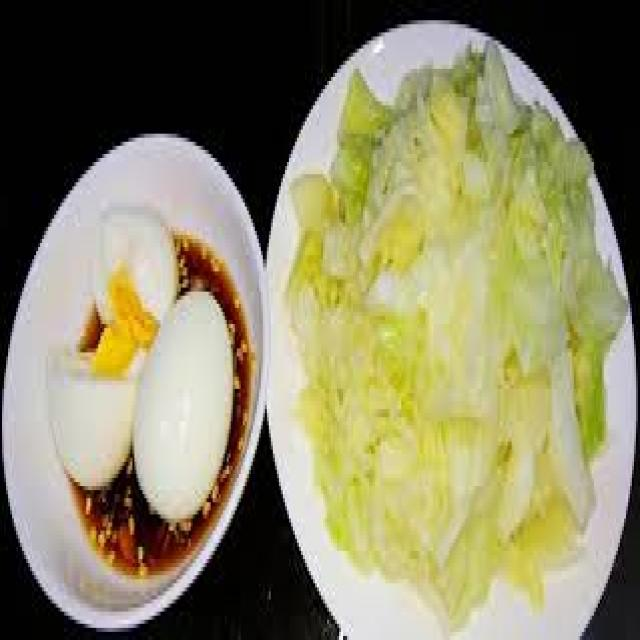bap cai luoc: (285, 45, 620, 628)
trung luoc: (48, 207, 235, 527)
